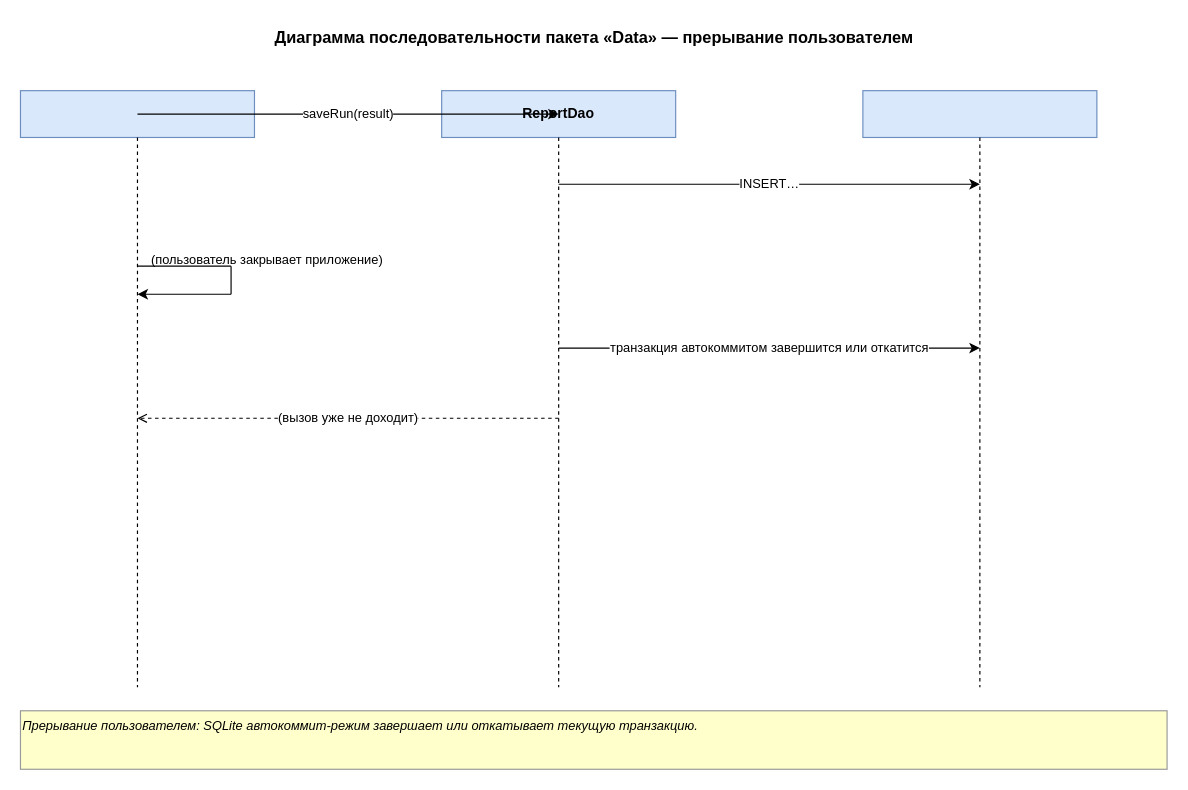
Some shapes in this 1188 by 790 pixel diagram are drawn without their labels. The box of each missing label's shape, as (x1, y1, x2, y2) in pixels:
MainController: (19, 90, 254, 137)
SQLite: (862, 90, 1097, 137)
